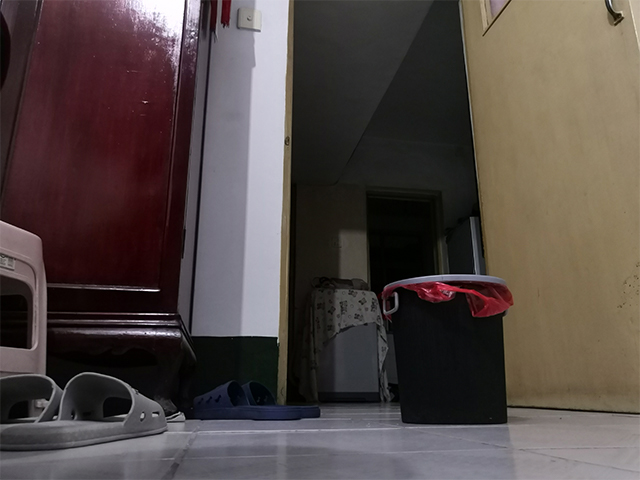cabinet: (1, 1, 216, 416)
slippers: (1, 369, 171, 452), (182, 377, 324, 422)
stool: (1, 218, 51, 377)
trashcan: (378, 272, 516, 426)
